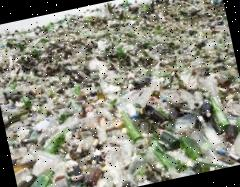glass: (117, 84, 237, 180)
